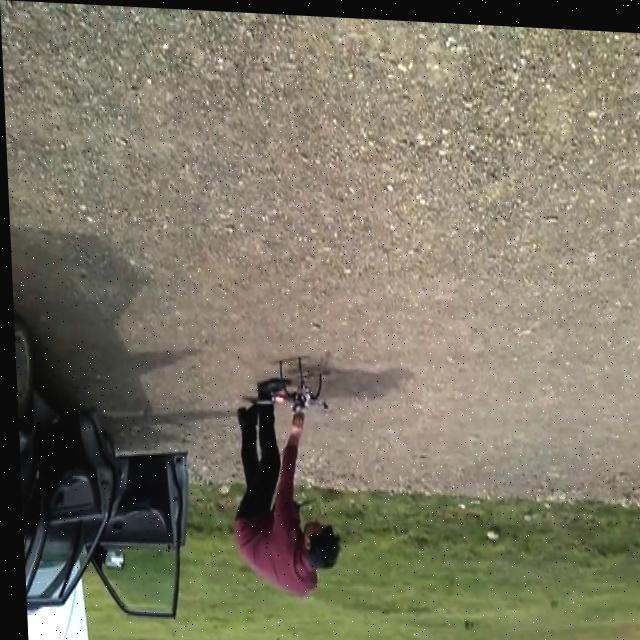drone: (252, 355, 327, 418)
